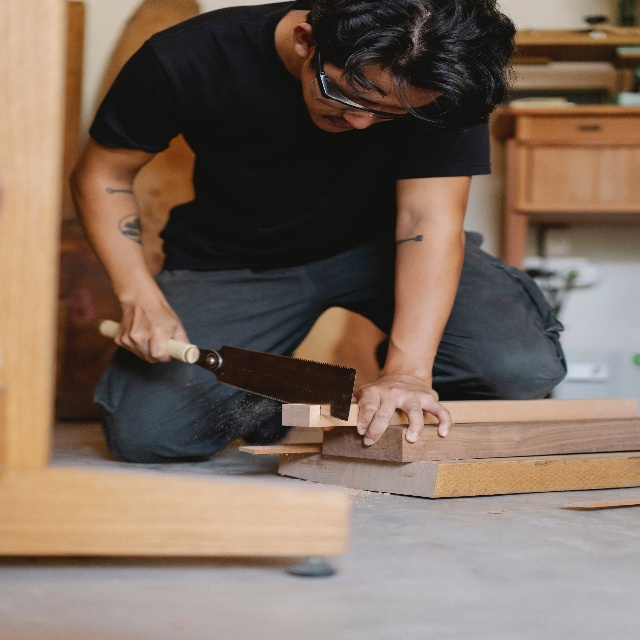Gafas: (309, 47, 416, 120)
Sin_guantes: (350, 370, 452, 446), (113, 295, 189, 365)
